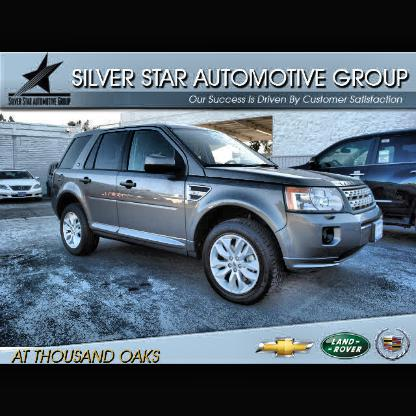Land Rover LR2 SUV 2012: (51, 125, 383, 307)
